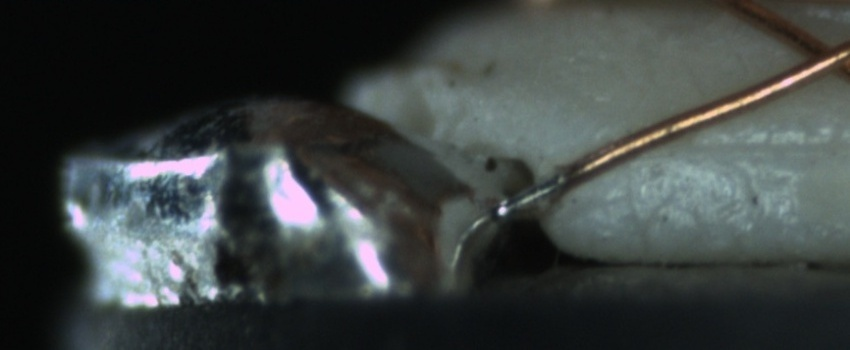CL: (779, 24, 850, 87)
DL: (647, 114, 846, 176)
TS: (491, 171, 572, 222)
TTCW: (488, 147, 612, 224)
